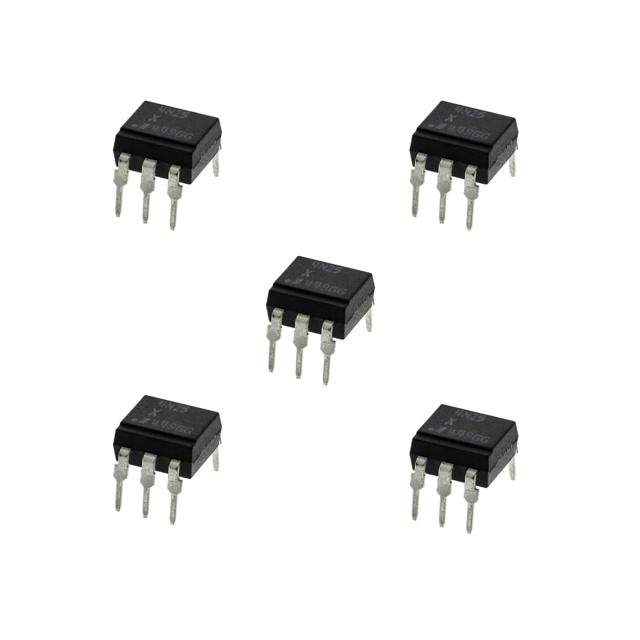IC: (264, 256, 375, 384), (409, 404, 518, 534), (114, 394, 223, 524), (408, 102, 518, 230), (112, 102, 220, 229)
